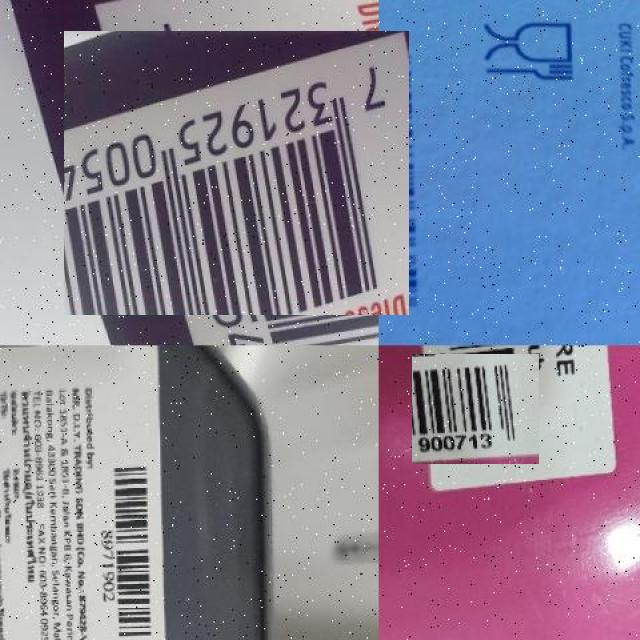Barcode: (79, 15, 394, 330), (379, 17, 433, 326), (417, 350, 535, 469), (100, 457, 159, 640)
